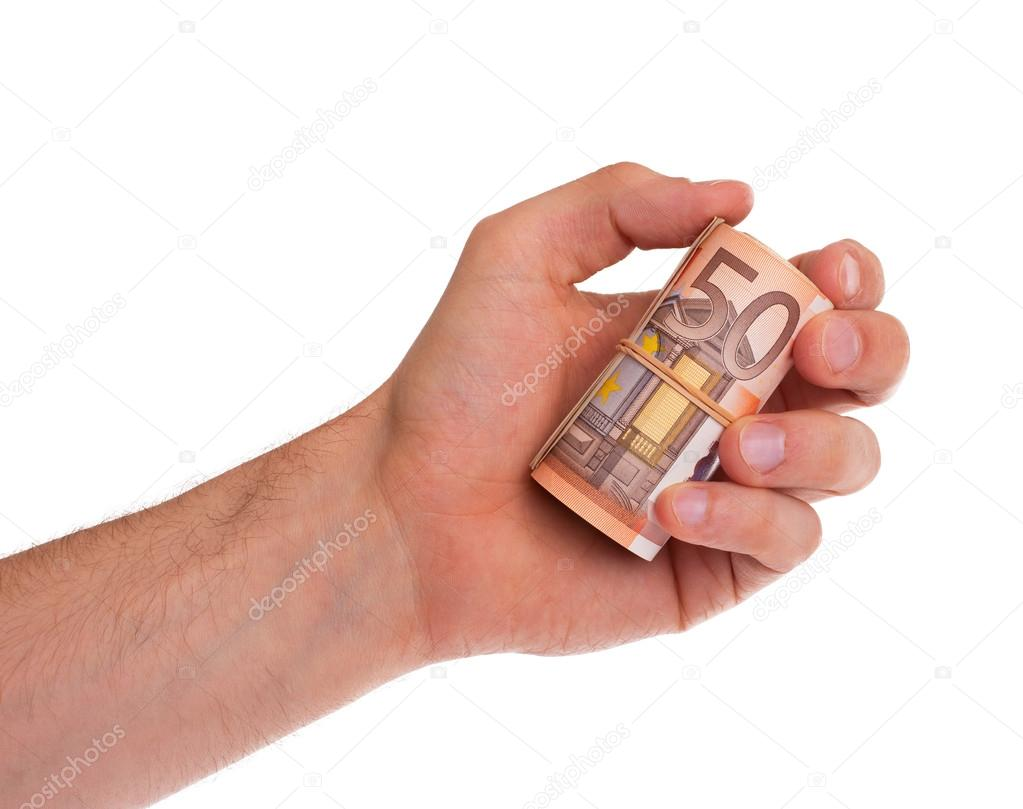billete: (524, 213, 837, 566)
